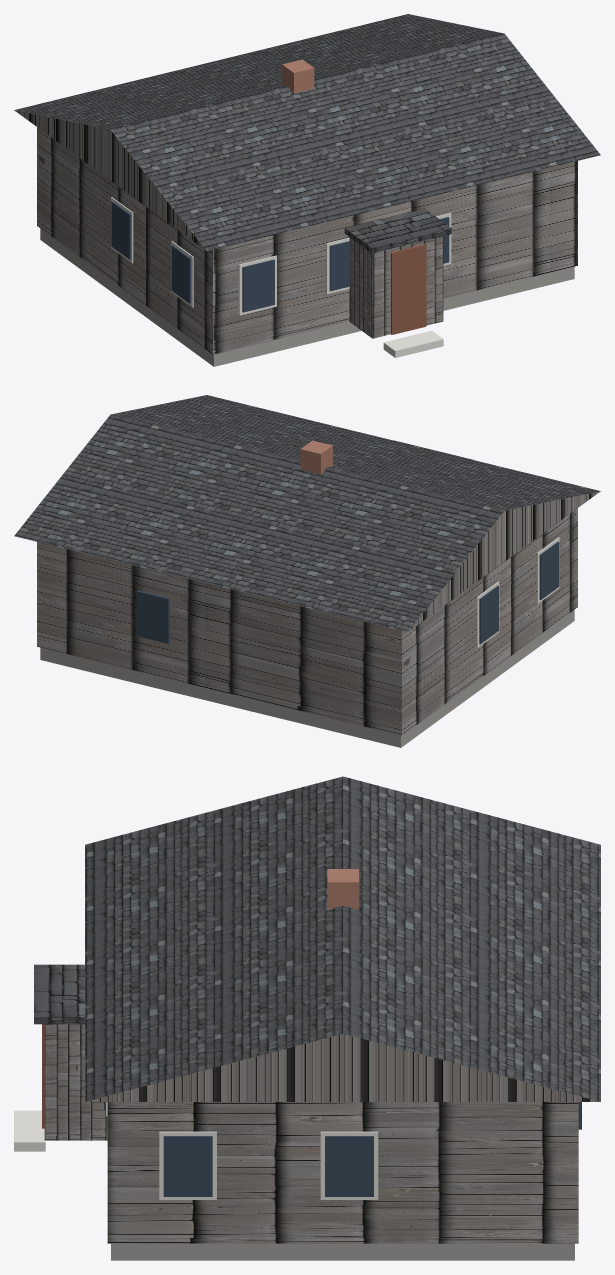
Rendered from asset.glb.
The picture shows the model from 3 angles, top to bottom: view 1: azimuth 30°, elevation 25°; view 2: azimuth 150°, elevation 25°; view 3: azimuth 270°, elevation 25°; orthographic projection. The views are drawn at different scales.
Visible parts, largest first — view 1: roof, body, foundation, porch, gable_end, door, porch_cap, win, step, win.001, win.003, win.004 (+2 smaller); view 2: roof, body, foundation, gable_end, win.007, win.003, win.004, chimney; view 3: roof, body, gable_end, foundation, porch, porch_cap, win.005, win.006, step, chimney, win_trim.006, win_trim.005.
Part boxes in pixels (x1,y1,x2,y2): roof: [14, 14, 600, 251]; body: [37, 127, 577, 354]; foundation: [40, 228, 574, 366]; porch: [349, 236, 443, 338]; gable_end: [14, 110, 206, 250]; door: [391, 244, 426, 334]; porch_cap: [344, 208, 451, 253]; win: [242, 259, 274, 312]; step: [383, 330, 443, 357]; win.001: [329, 241, 350, 291]; win.003: [171, 245, 190, 303]; win.004: [111, 201, 130, 259]; roof: [14, 395, 600, 632]; body: [37, 508, 577, 735]; foundation: [40, 609, 574, 747]; gable_end: [408, 491, 600, 631]; win.007: [136, 590, 169, 643]; win.003: [539, 541, 559, 599]; win.004: [479, 585, 498, 644]; chimney: [300, 440, 332, 474]; roof: [85, 776, 600, 1101]; body: [107, 1102, 578, 1243]; gable_end: [85, 1033, 600, 1101]; foundation: [111, 1243, 574, 1260]; porch: [44, 1024, 107, 1140]; porch_cap: [34, 964, 84, 1024]; win.005: [163, 1136, 212, 1196]; win.006: [325, 1136, 373, 1196]; step: [14, 1110, 45, 1151]; chimney: [327, 869, 358, 909]; win_trim.006: [320, 1131, 378, 1199]; win_trim.005: [159, 1131, 216, 1199].
Bounding box in the file's own units: 10.57 × 5.01 × 10.2.
Materials: 7 (2 with a texture image).
